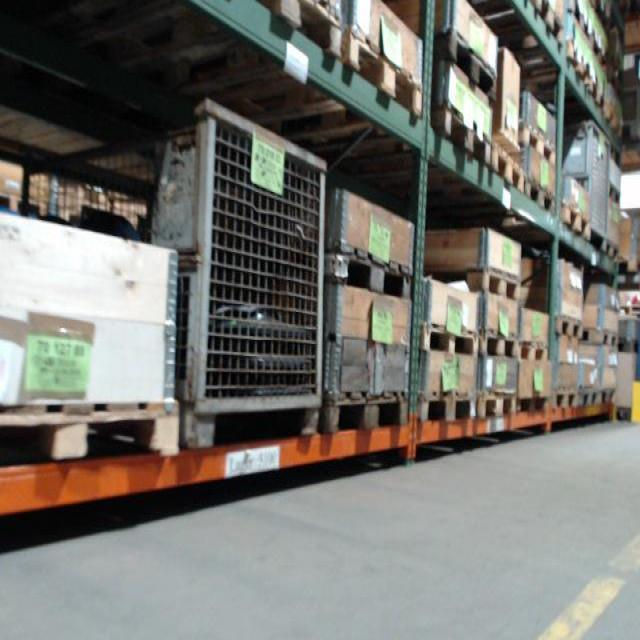pallet: (170, 31, 428, 152), (0, 393, 185, 468), (174, 2, 347, 67), (425, 27, 500, 103), (318, 245, 417, 301), (454, 3, 567, 50), (314, 382, 406, 436), (428, 106, 496, 174), (525, 46, 597, 102), (424, 264, 521, 305), (513, 119, 563, 169), (417, 389, 480, 428), (490, 137, 526, 204), (417, 322, 479, 358), (553, 4, 597, 47), (523, 174, 558, 223), (477, 331, 518, 370), (561, 202, 596, 243), (481, 386, 516, 422), (543, 382, 578, 416), (598, 174, 627, 212), (550, 312, 583, 345), (515, 389, 548, 419), (583, 328, 622, 352), (518, 336, 550, 365), (606, 102, 627, 145), (591, 84, 607, 133), (596, 383, 621, 414), (602, 235, 628, 261), (577, 383, 597, 413)
stillage: (13, 94, 329, 451), (555, 111, 608, 250), (619, 84, 639, 143)
